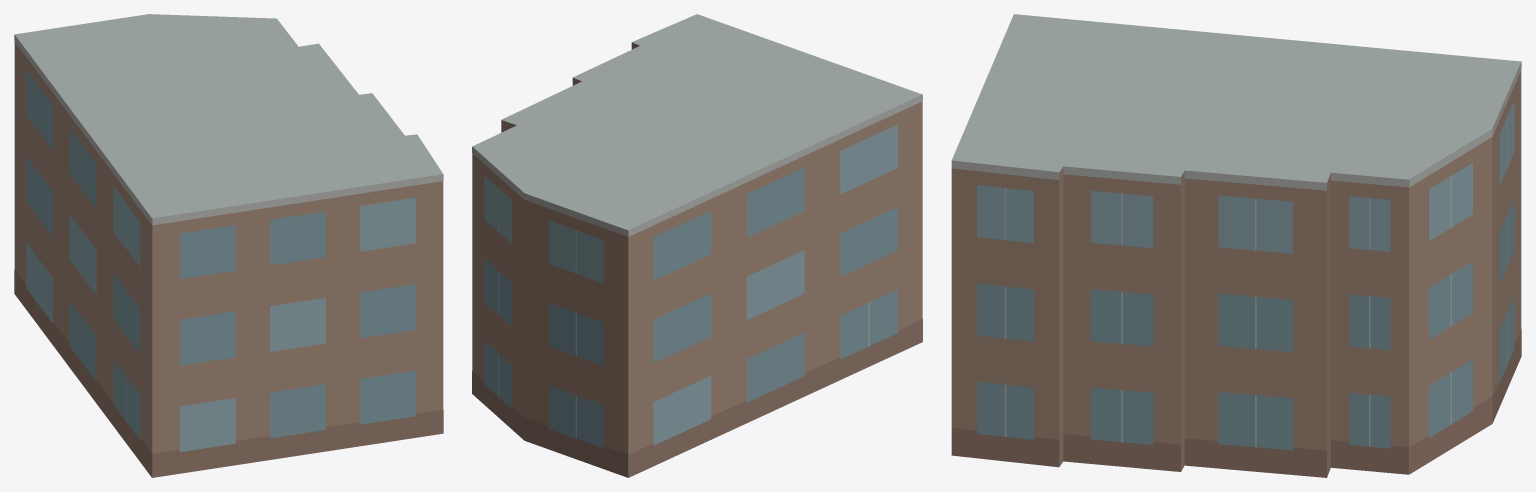
Rendered from survey-upis-32706998.glb.
3 renders of one model, left to right at view 1: azimuth 30°, elevation 25°; view 2: azimuth 150°, elevation 25°; view 3: azimuth 270°, elevation 25°, orthographic. The views are drawn at different scales.
Parts seen in each view (by area): view 1: survey-upis-32706998.tmp; view 2: survey-upis-32706998.tmp; view 3: survey-upis-32706998.tmp.
Part boxes in pixels (x1,y1,x2,y2): survey-upis-32706998.tmp: [14, 14, 443, 477]; survey-upis-32706998.tmp: [472, 14, 922, 477]; survey-upis-32706998.tmp: [951, 14, 1521, 477].
Size of the model in its own units: 11.24 by 9.15 by 16.03.
